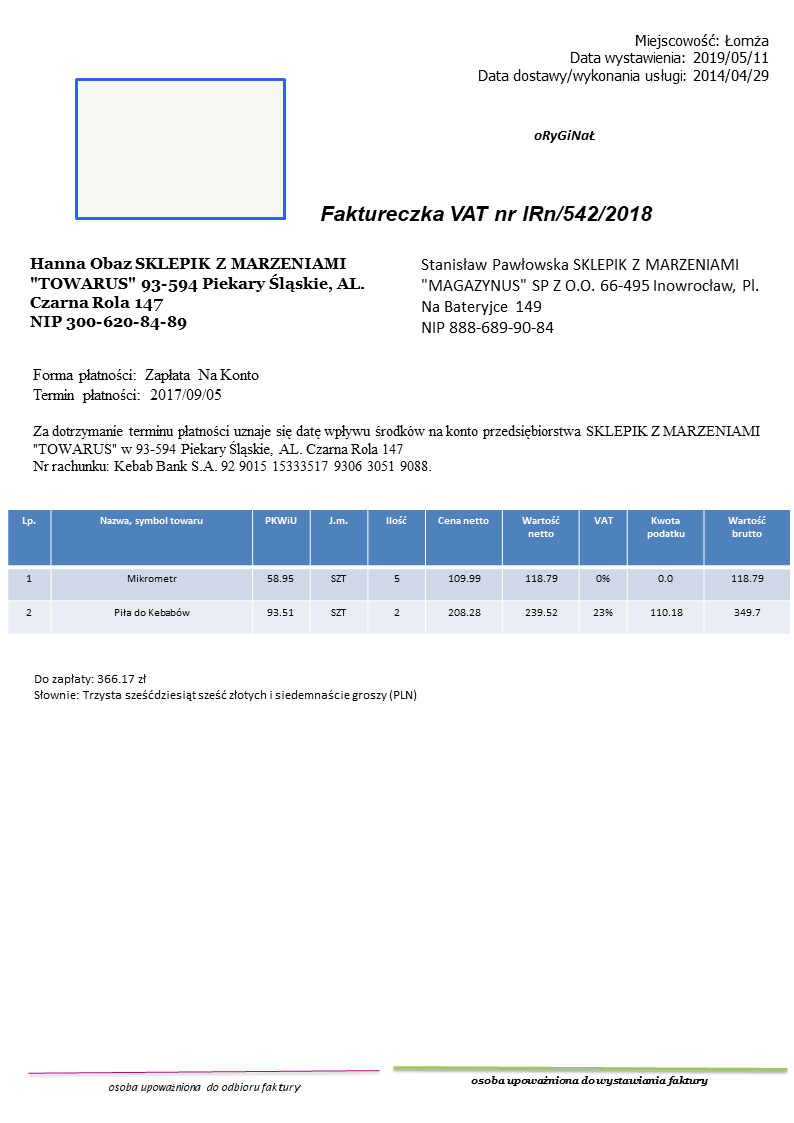Table: (6, 508, 793, 637)
TextBox: (30, 421, 763, 473), (417, 254, 763, 337), (27, 253, 367, 333), (474, 28, 772, 87), (30, 671, 419, 706), (319, 198, 654, 226), (28, 365, 262, 404), (467, 1071, 710, 1089), (104, 1078, 304, 1094), (530, 125, 595, 146)
